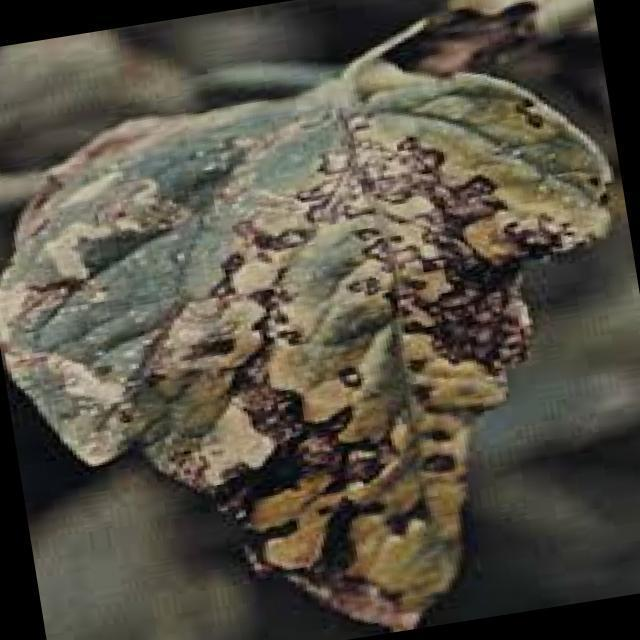Septoria: (54, 95, 604, 640)
